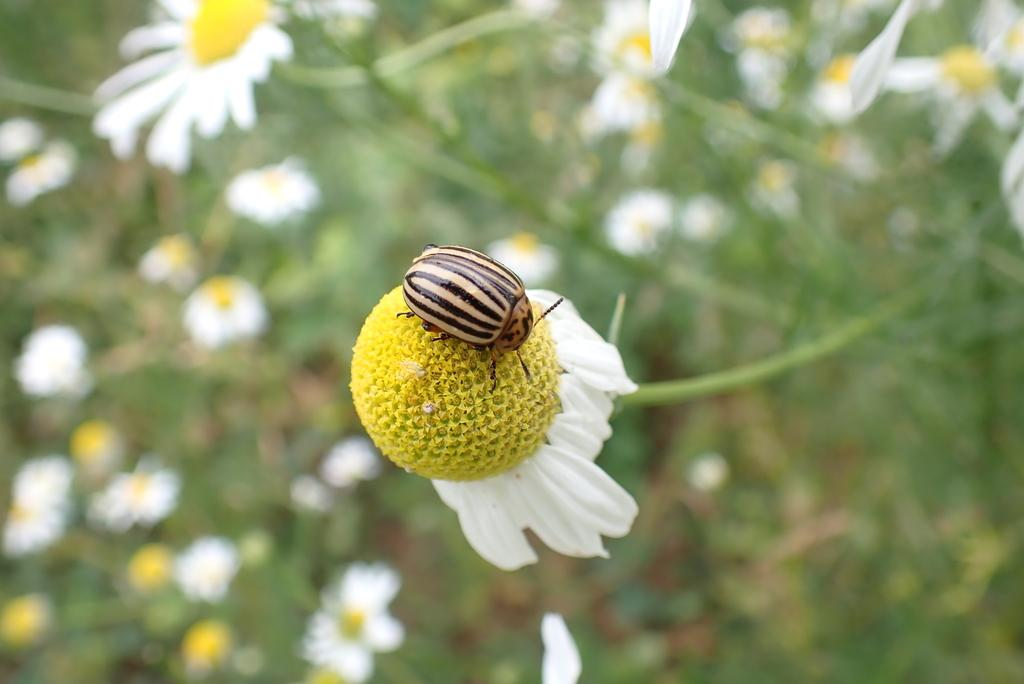potato_beetle: (363, 217, 587, 415)
